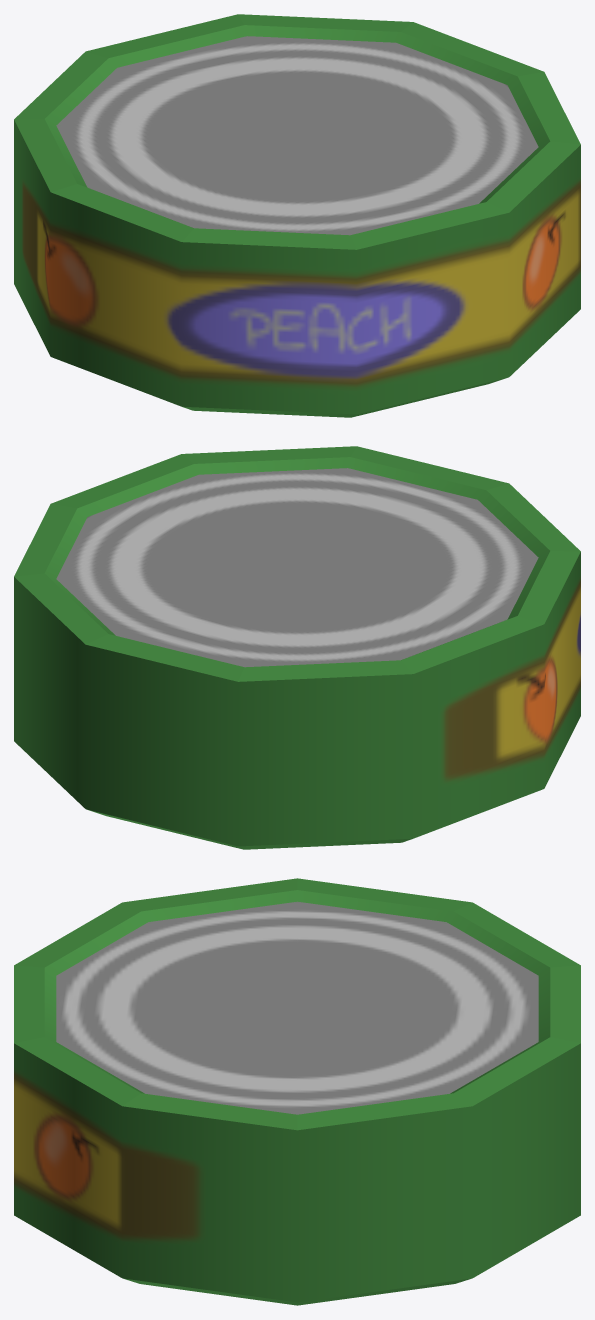
Rendered from Canned_04.fbx.
3 views of the same model, one above another, from view 1: azimuth 30°, elevation 25°; view 2: azimuth 150°, elevation 25°; view 3: azimuth 270°, elevation 25° (orthographic). The views are drawn at different scales.
Visible parts, largest first — view 1: Canned_04; view 2: Canned_04; view 3: Canned_04.
Boxes of the visible parts, <box> form: Canned_04: <box>14,14,580,417</box>; Canned_04: <box>14,446,580,849</box>; Canned_04: <box>14,878,580,1305</box>.
Bounding box in the file's own units: 17.22 × 6.05 × 16.38.
